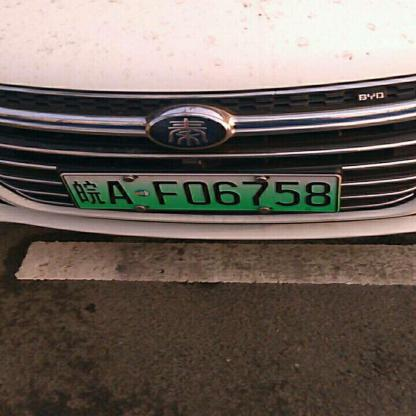lp: (62, 176, 338, 211)
